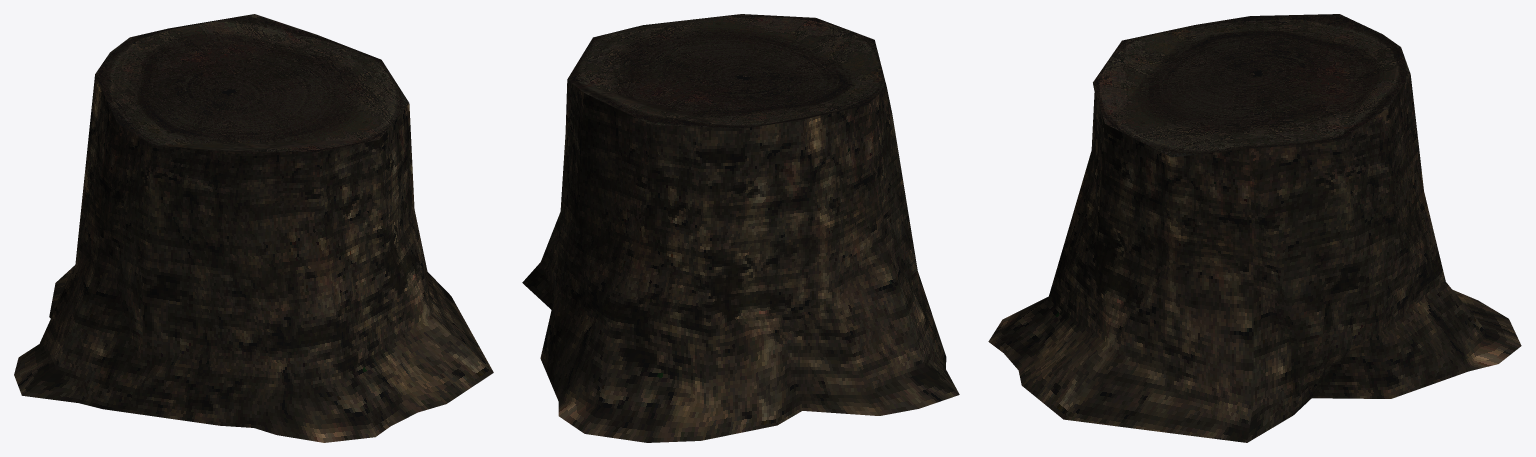
The model's file is tree_stump_1.glb.
The picture shows the model from 3 angles, left to right: view 1: azimuth 30°, elevation 25°; view 2: azimuth 150°, elevation 25°; view 3: azimuth 270°, elevation 25°; orthographic projection. The views are drawn at different scales.
Parts seen in each view (by area): view 1: tree_stump_1; view 2: tree_stump_1; view 3: tree_stump_1.
Part boxes in pixels (x1=…): tree_stump_1: x1=14, y1=14, x2=493, y2=442; tree_stump_1: x1=522, y1=14, x2=959, y2=442; tree_stump_1: x1=988, y1=14, x2=1521, y2=442.
Size of the model in its own units: 0.8786 by 0.524 by 0.929.
Materials: 2 (2 with a texture image).
